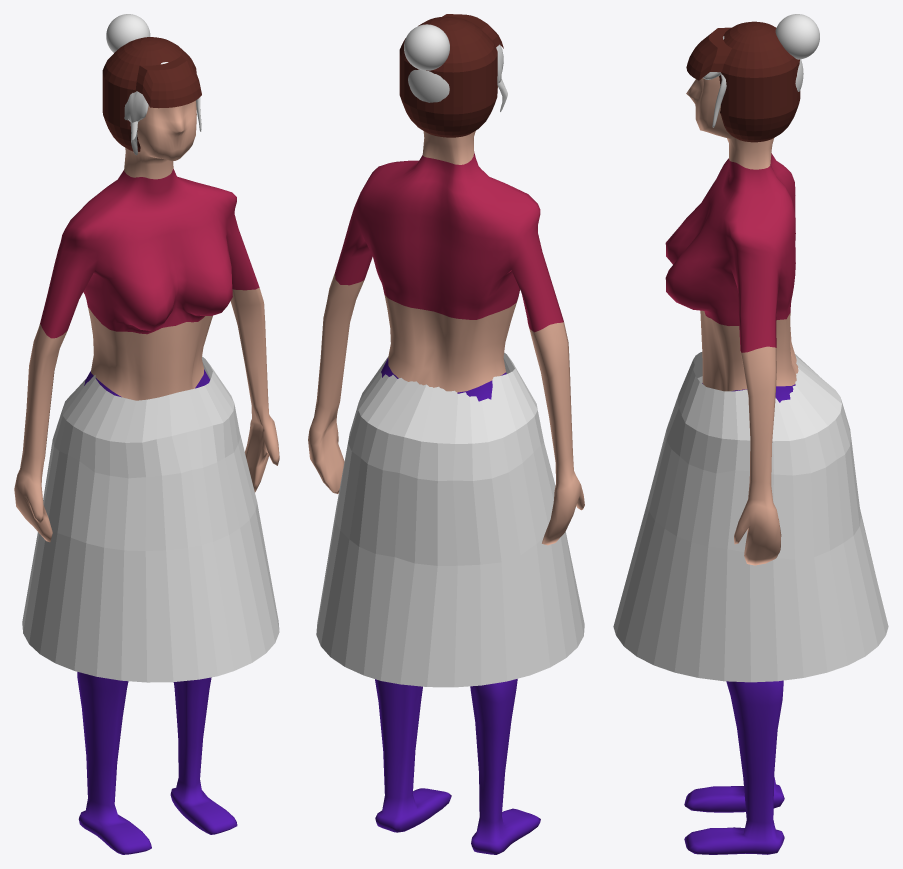
The model's file is 3 karakter.fbx.
The picture shows the model from 3 angles, left to right: view 1: azimuth 30°, elevation 25°; view 2: azimuth 150°, elevation 25°; view 3: azimuth 270°, elevation 25°; orthographic projection. The views are drawn at different scales.
Visible parts, largest first — view 1: Cylinder, Cube, Sphere.001, Cube.001; view 2: Cylinder, Cube, Sphere.001, Cube.001; view 3: Cylinder, Cube, Sphere.001, Cube.001.
Part boxes in pixels (x1,y1,x2,y2): Cylinder: [22, 356, 279, 682]; Cube: [14, 100, 279, 854]; Sphere.001: [102, 37, 201, 151]; Cube.001: [106, 14, 201, 155]; Cylinder: [316, 352, 584, 687]; Cube: [308, 86, 584, 854]; Sphere.001: [399, 14, 503, 137]; Cube.001: [404, 24, 507, 111]; Cylinder: [613, 352, 888, 682]; Cube: [665, 76, 798, 854]; Sphere.001: [686, 21, 800, 142]; Cube.001: [703, 14, 819, 127].
Bounding box in the file's own units: 219 × 652 × 200.
